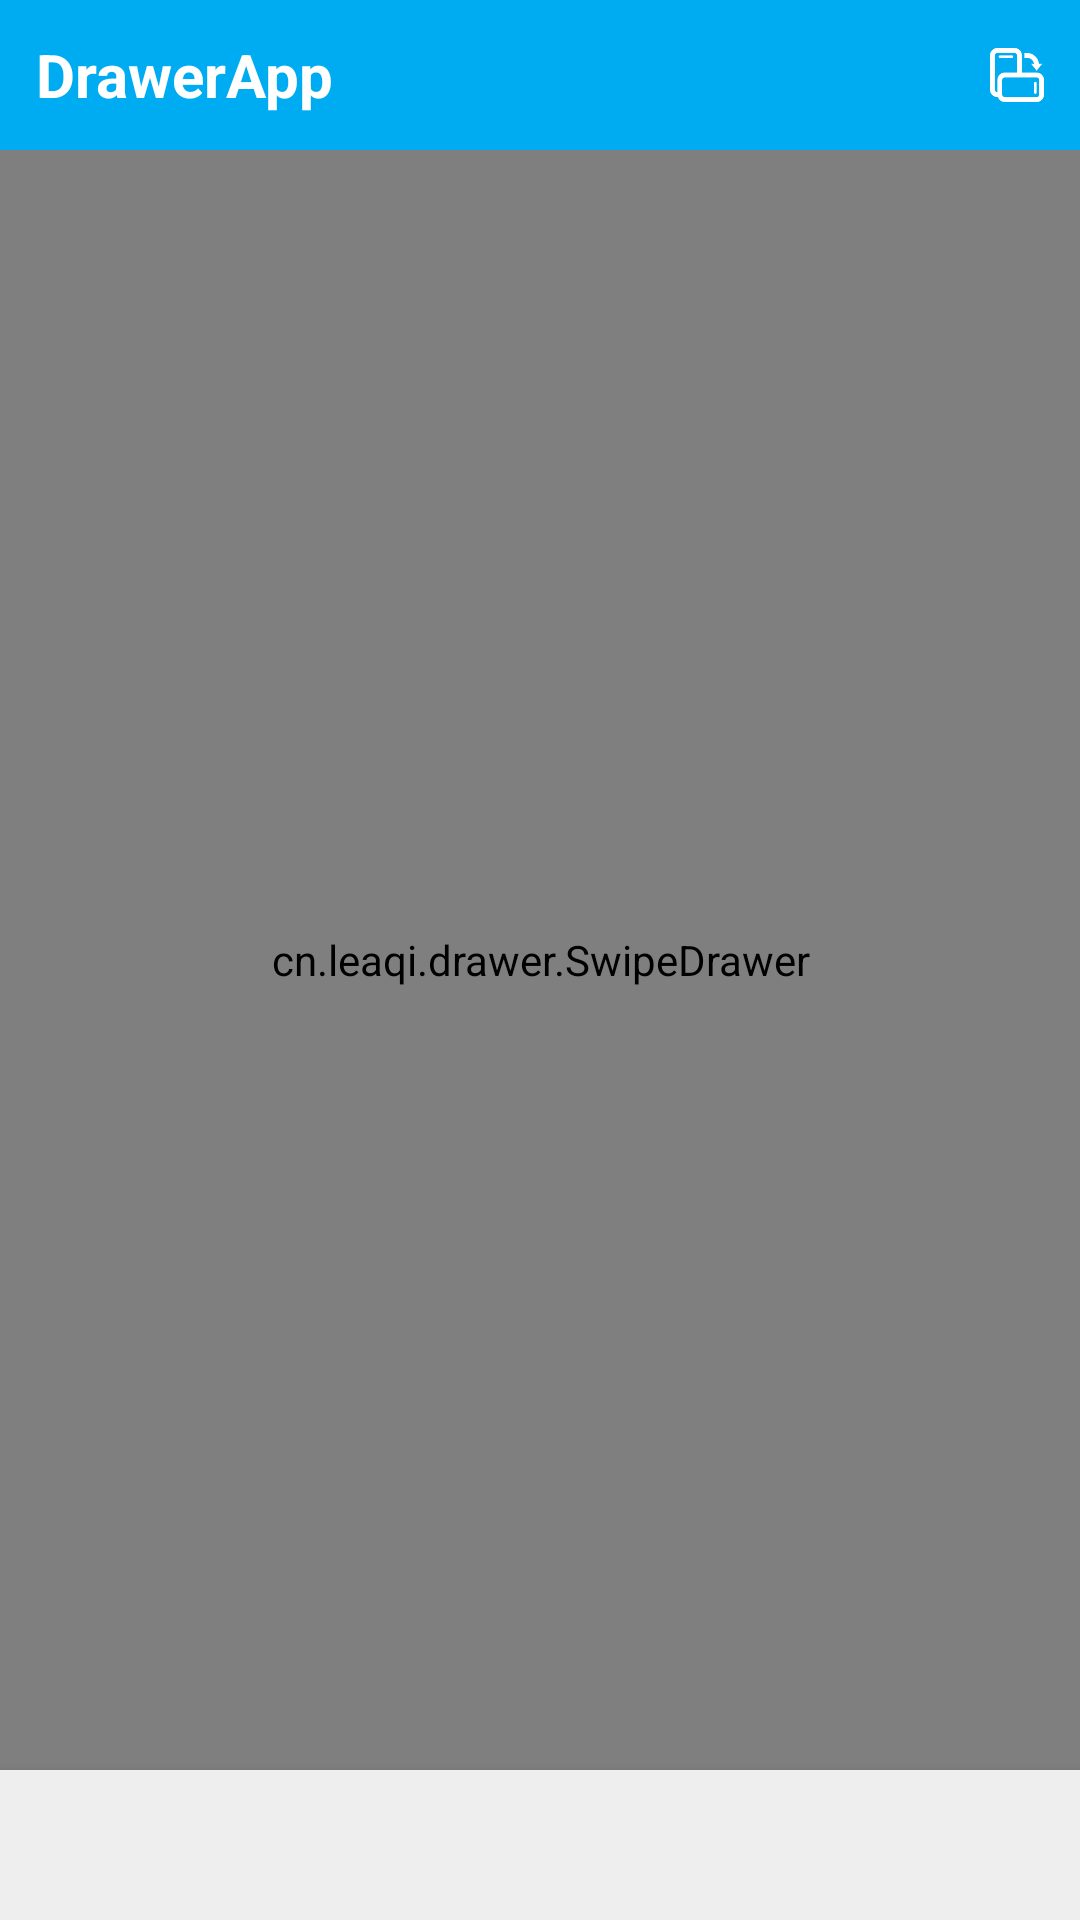

Icons on this 1080px×1920px Android screen, each with its box as (x1, y1, x2, y2):
rotate: (990, 48, 1044, 102)
